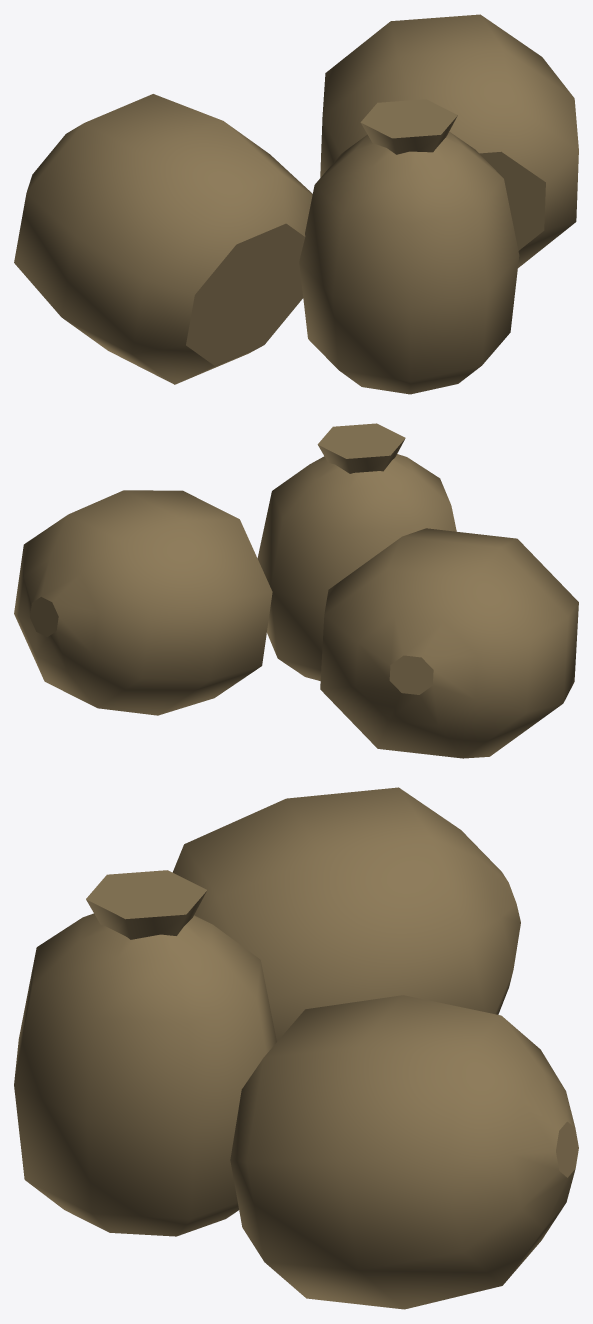
The model's file is sacks.glb.
The picture shows the model from 3 angles, top to bottom: view 1: azimuth 30°, elevation 25°; view 2: azimuth 150°, elevation 25°; view 3: azimuth 270°, elevation 25°; orthographic projection. The views are drawn at different scales.
Visible parts, largest first — view 1: sacks; view 2: sacks; view 3: sacks.
Part boxes in pixels (bbox=[...]): sacks: bbox=[14, 14, 578, 394]; sacks: bbox=[14, 423, 578, 758]; sacks: bbox=[14, 787, 578, 1309].
Size of the model in its own units: 1.27 by 0.546 by 0.9147.
